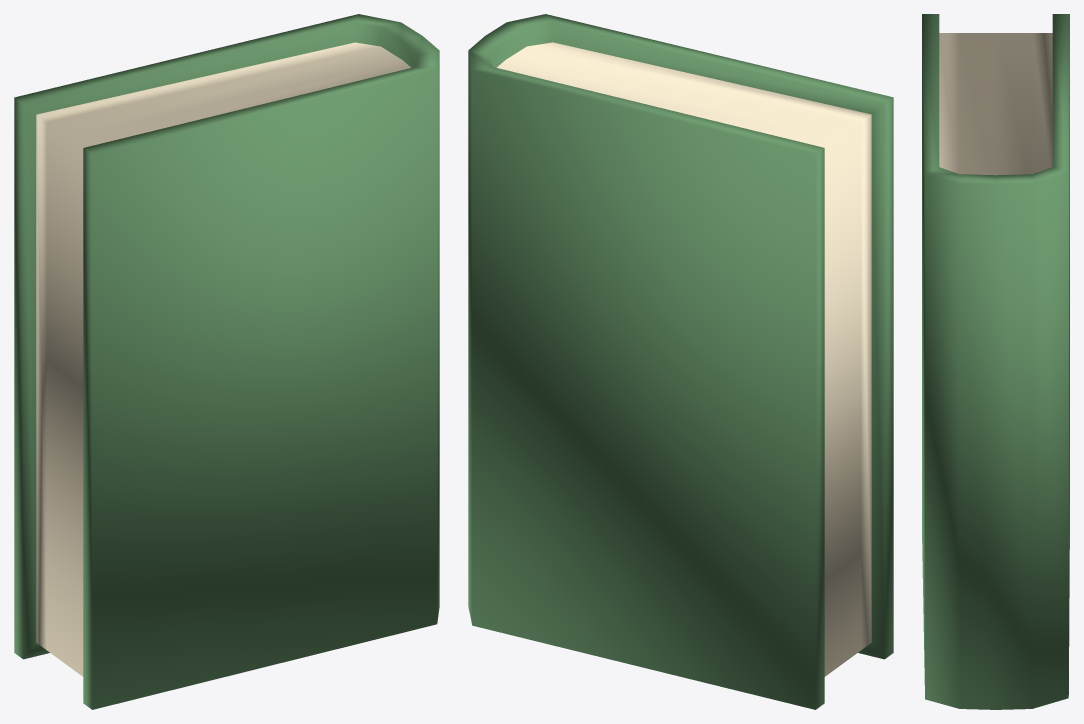
The model's file is SM_Book03.fbx.
3 views of the same model, side by side, from view 1: azimuth 30°, elevation 25°; view 2: azimuth 150°, elevation 25°; view 3: azimuth 270°, elevation 25° (orthographic). The views are drawn at different scales.
Visible parts, largest first — view 1: Book03; view 2: Book03; view 3: Book03.
Boxes of the visible parts, left/top/right/bottom form: Book03: left=14, top=14, right=439, bottom=709; Book03: left=468, top=14, right=893, bottom=709; Book03: left=922, top=14, right=1069, bottom=709.
Size of the model in its own units: 33.04 by 47.46 by 12.1.
